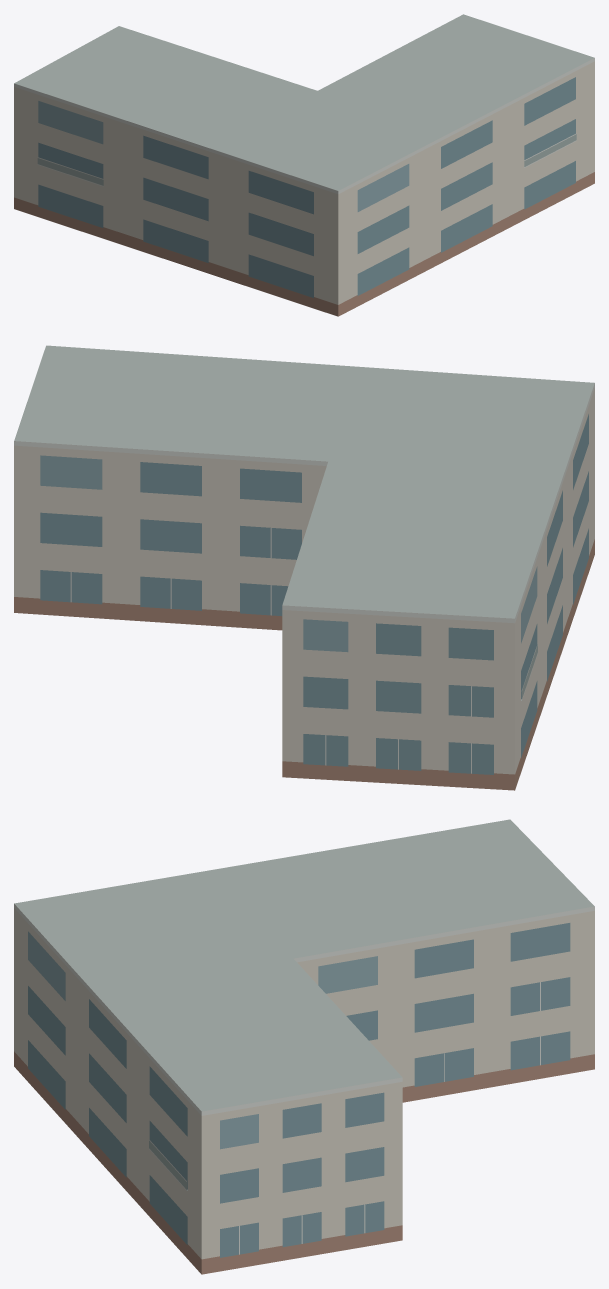
File: survey-upis-32575183.glb
3 views of the same model, one above another, from view 1: azimuth 30°, elevation 25°; view 2: azimuth 150°, elevation 25°; view 3: azimuth 270°, elevation 25° (orthographic). The views are drawn at different scales.
Visible parts, largest first — view 1: survey-upis-32575183.tmp; view 2: survey-upis-32575183.tmp; view 3: survey-upis-32575183.tmp.
Part boxes in pixels (x1,y1,x2,y2): survey-upis-32575183.tmp: (14,14,594,316); survey-upis-32575183.tmp: (14,345,594,790); survey-upis-32575183.tmp: (14,819,594,1274).
Bounding box in the file's own units: 35.2 × 9.15 × 29.57.
